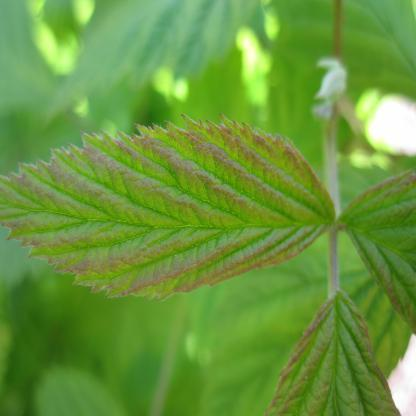Raspberry leaf: (0, 113, 335, 302), (260, 288, 400, 416)
